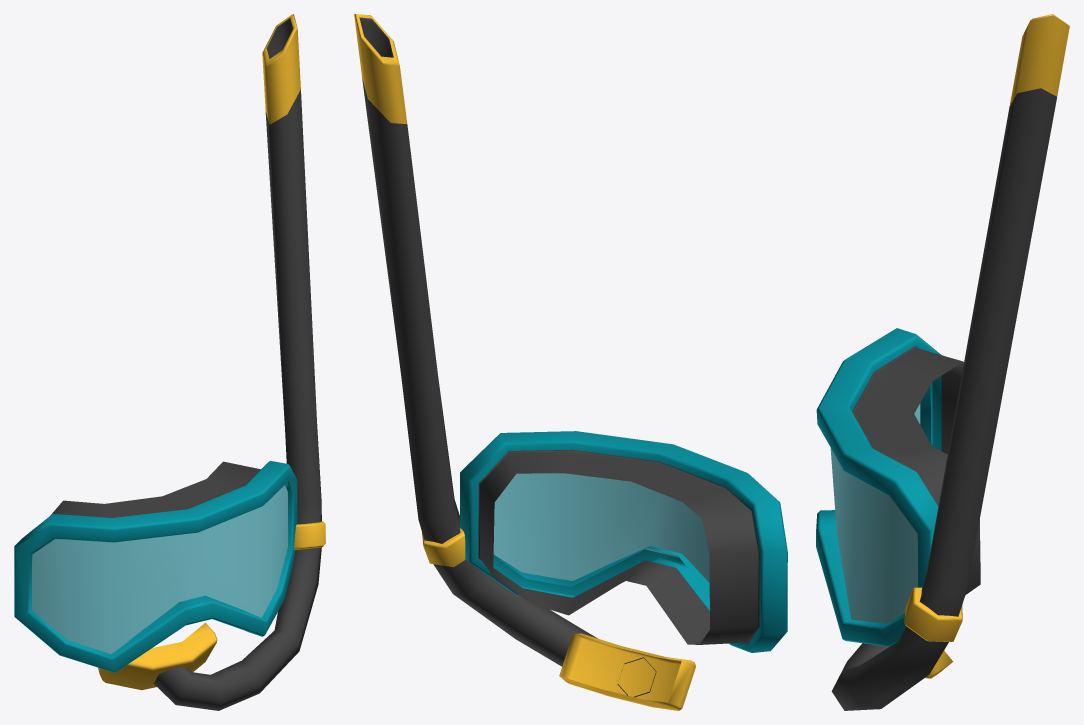
File: Hat_077.glb
3 views of the same model, side by side, from view 1: azimuth 30°, elevation 25°; view 2: azimuth 150°, elevation 25°; view 3: azimuth 270°, elevation 25° (orthographic). The views are drawn at different scales.
Visible parts, largest first — view 1: Hat_077; view 2: Hat_077; view 3: Hat_077.
Part boxes in pixels (box(x1,y1,x2,y2)): Hat_077: box(14, 14, 325, 710); Hat_077: box(354, 14, 787, 710); Hat_077: box(816, 14, 1069, 710).
Bounding box in the file's own units: 0.3725 × 0.6582 × 0.1937.
Materials: 1 (1 with a texture image).
